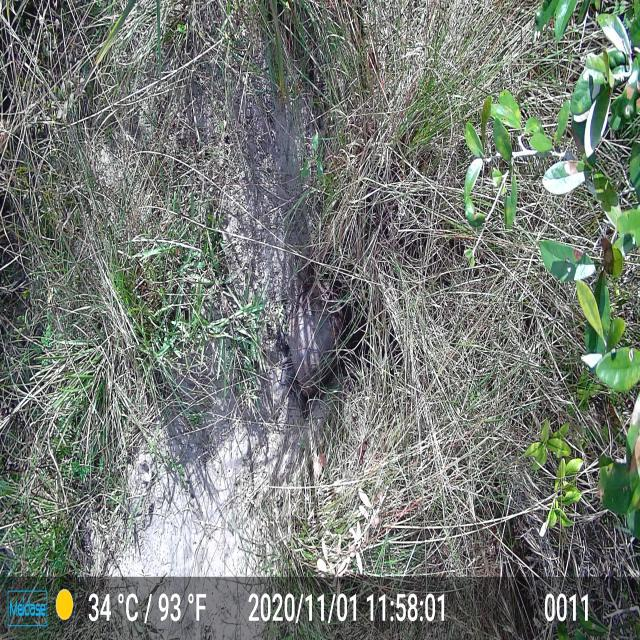tortoise: (276, 270, 352, 424)
